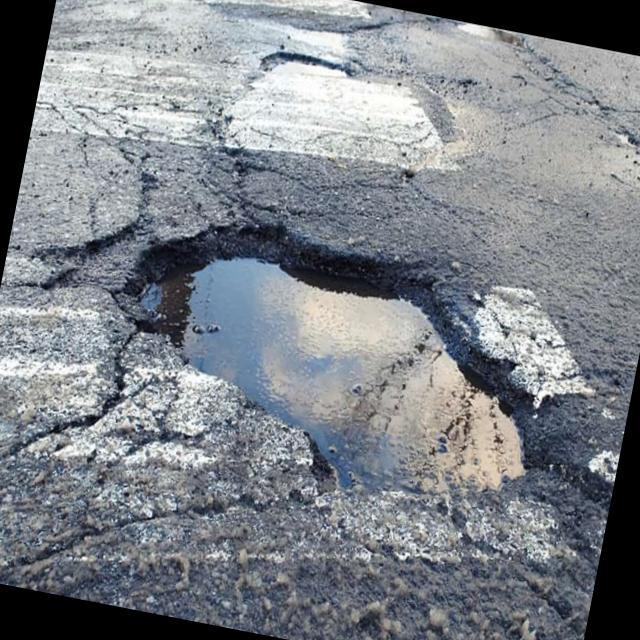Pothole: (75, 182, 580, 566)
